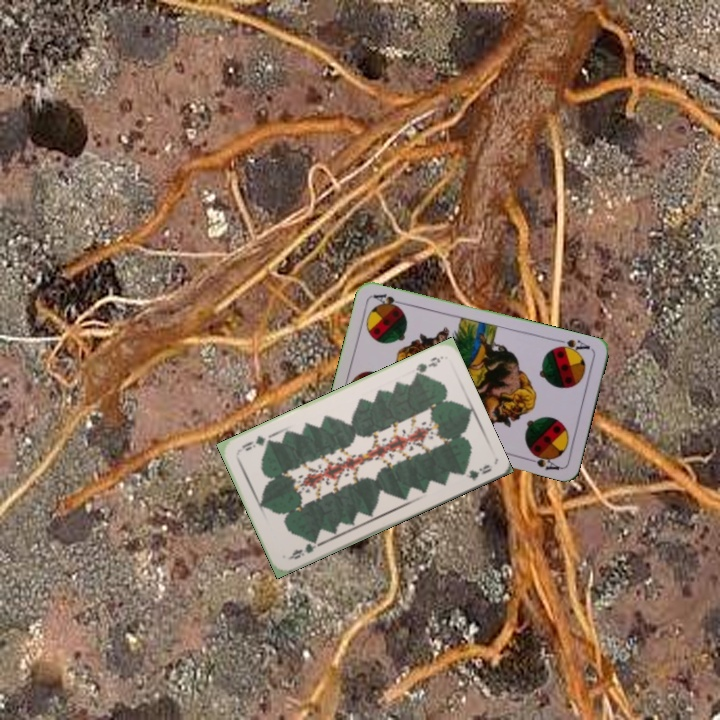G9: (284, 535, 322, 562), (410, 353, 444, 379)
SA: (552, 335, 593, 356)
